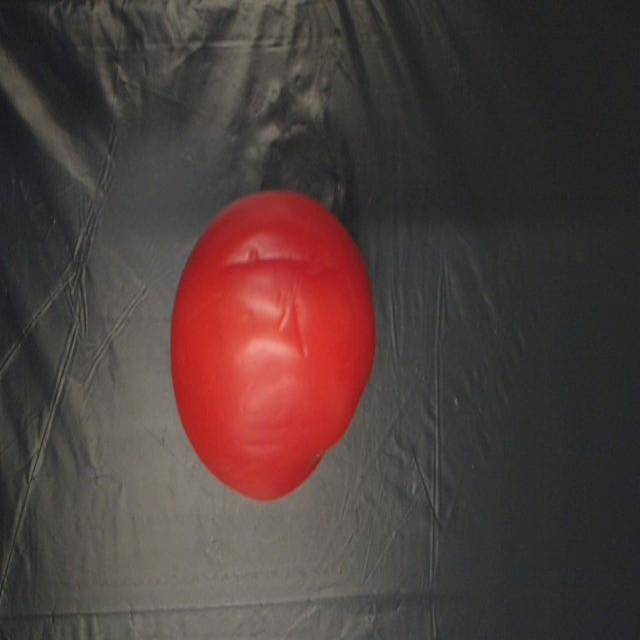kirmizi: (166, 174, 381, 511)
